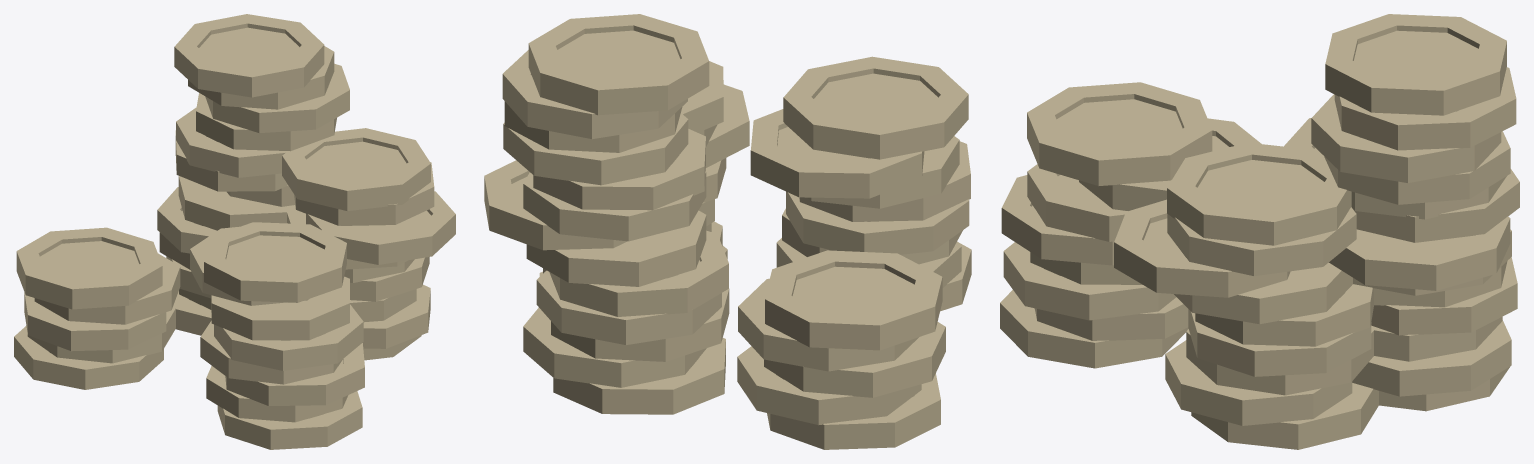
The model's file is coin_piles.glb.
The picture shows the model from 3 angles, left to right: view 1: azimuth 30°, elevation 25°; view 2: azimuth 150°, elevation 25°; view 3: azimuth 270°, elevation 25°; orthographic projection. The views are drawn at different scales.
Parts seen in each view (by area): view 1: Coin_Pile; view 2: Coin_Pile; view 3: Coin_Pile.
Boxes of the visible parts, <box> form: Coin_Pile: <box>14,14,455,449</box>; Coin_Pile: <box>484,14,971,449</box>; Coin_Pile: <box>1000,14,1519,449</box>.
Size of the model in its own units: 0.1364 by 0.0946 by 0.1354.
